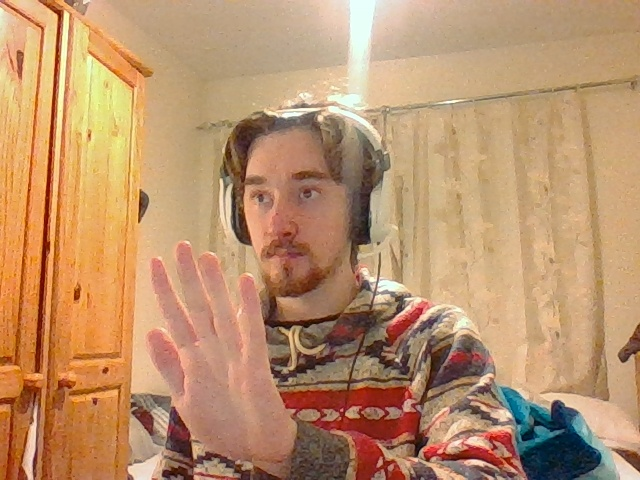hello: (146, 241, 284, 460)
